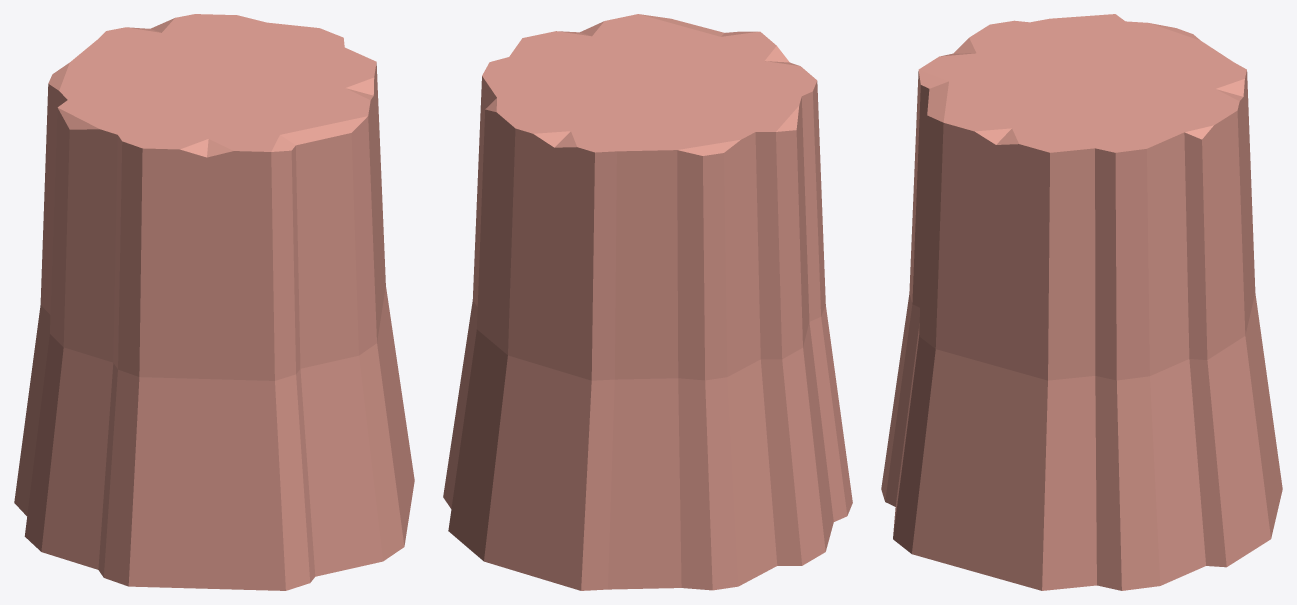
The model's file is Cylinder_040_Vlad.fbx.
3 renders of one model, left to right at view 1: azimuth 30°, elevation 25°; view 2: azimuth 150°, elevation 25°; view 3: azimuth 270°, elevation 25°, orthographic.
Visible parts, largest first — view 1: Cylinder.040; view 2: Cylinder.040; view 3: Cylinder.040.
Boxes of the visible parts, box(x1,y1,x2,y2) form: Cylinder.040: box(14, 14, 414, 590); Cylinder.040: box(443, 14, 852, 590); Cylinder.040: box(881, 14, 1282, 590).
Size of the model in its own units: 436 by 500 by 432.
